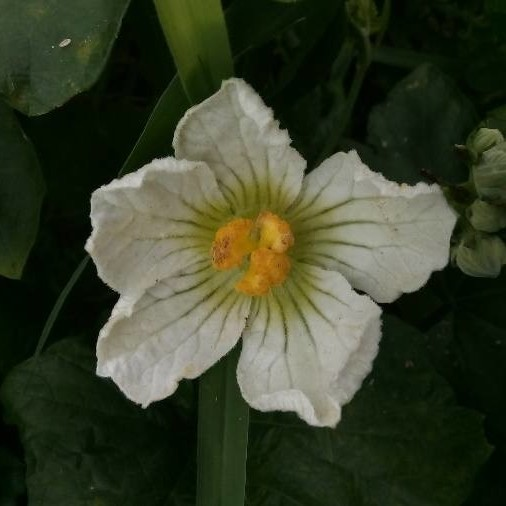obstacle: (91, 65, 463, 442)
